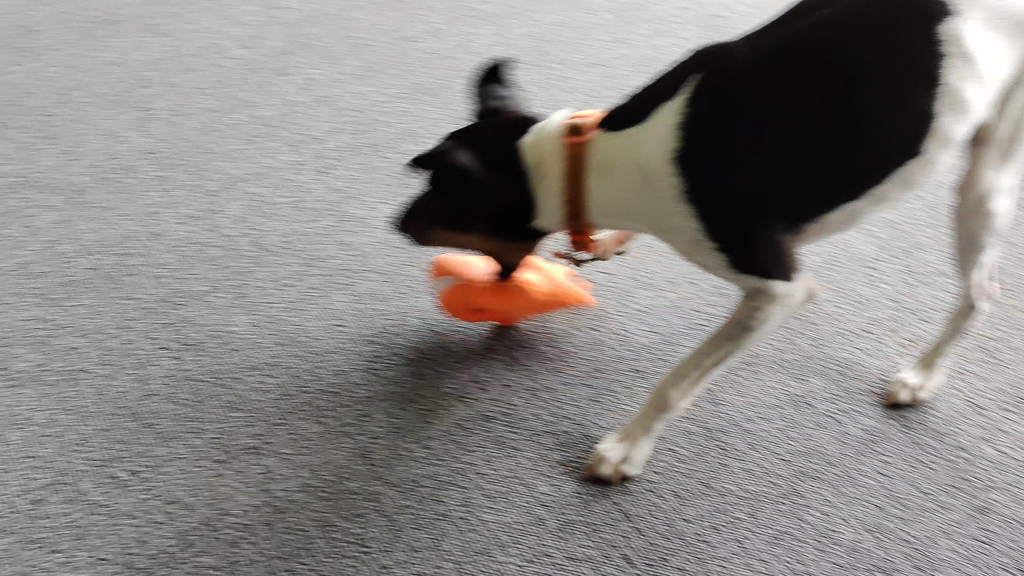Dog: (379, 0, 1024, 499)
